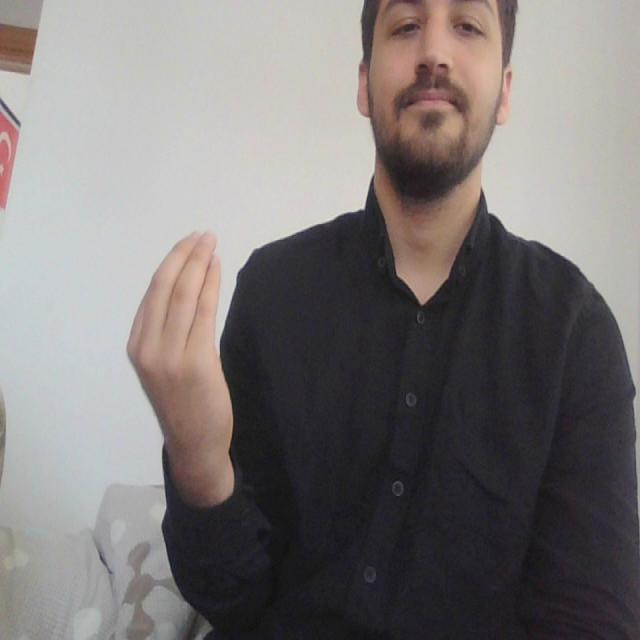iyi: (124, 228, 224, 378)
